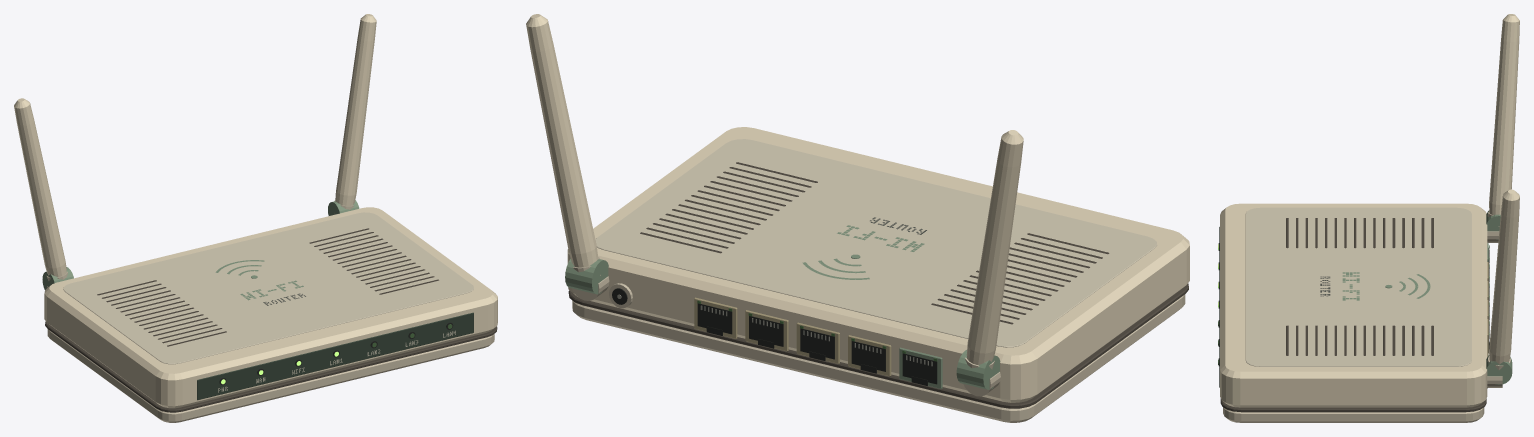
Rendered from retro-router.glb.
3 views of the same model, side by side, from view 1: azimuth 30°, elevation 25°; view 2: azimuth 150°, elevation 25°; view 3: azimuth 270°, elevation 25° (orthographic). The views are drawn at different scales.
Parts seen in each view (by area): view 1: Router inset top lid, Router cream housing, Router front status panel, Router lower shell, Router top ventilation slots, Router cream antenna 1, Router cream antenna -1, Router case seam, Router antenna pivot; view 2: Router inset top lid, Router cream housing, Router lower shell, Router cream antenna 1, Router cream antenna -1, Router top ventilation slots, Router case seam, Router Ethernet socket interior, Router antenna pivot, Router antenna rear mount; view 3: Router inset top lid, Router cream housing, Router cream antenna -1, Router cream antenna 1, Router top ventilation slots, Router lower shell, Router case seam, Router antenna pivot, Router top markings, Router antenna rear mount.
Boxes of the visible parts, x1,y1,x2,y2 form: Router inset top lid: [63, 212, 473, 364]; Router cream housing: [44, 207, 497, 408]; Router front status panel: [197, 312, 473, 400]; Router lower shell: [47, 329, 494, 422]; Router top ventilation slots: [97, 228, 438, 346]; Router cream antenna 1: [335, 14, 376, 205]; Router cream antenna -1: [14, 99, 66, 277]; Router case seam: [45, 321, 497, 412]; Router antenna pivot: [42, 200, 359, 289]; Router inset top lid: [595, 139, 1157, 347]; Router cream housing: [567, 127, 1189, 402]; Router lower shell: [572, 294, 1185, 422]; Router cream antenna 1: [526, 15, 598, 267]; Router cream antenna -1: [966, 131, 1023, 365]; Router top ventilation slots: [640, 162, 1109, 324]; Router case seam: [568, 283, 1188, 408]; Router Ethernet socket interior: [697, 303, 937, 384]; Router antenna pivot: [565, 259, 1000, 389]; Router antenna rear mount: [572, 276, 1000, 396]; Router inset top lid: [1245, 207, 1471, 366]; Router cream housing: [1220, 203, 1487, 407]; Router cream antenna -1: [1489, 15, 1519, 214]; Router cream antenna 1: [1489, 190, 1519, 364]; Router top ventilation slots: [1286, 218, 1433, 355]; Router lower shell: [1223, 407, 1484, 422]; Router case seam: [1220, 398, 1486, 412]; Router antenna pivot: [1486, 210, 1512, 384]; Router top markings: [1320, 272, 1359, 300]; Router antenna rear mount: [1487, 231, 1502, 387].
Bounding box in the file's own units: 4.25 × 2.64 × 2.96.
